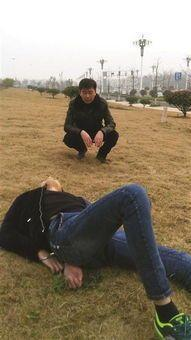Fall-Detected: (1, 159, 188, 317)
